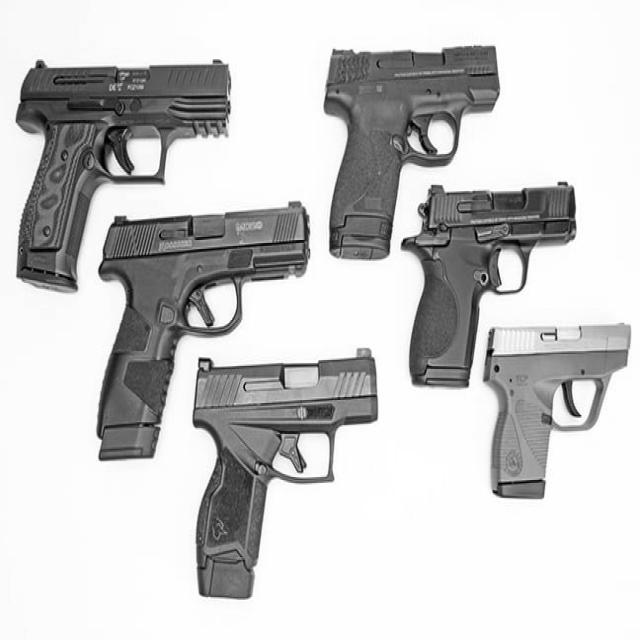Hand-Gun: (184, 360, 406, 623), (99, 213, 314, 478), (14, 50, 239, 284), (318, 38, 497, 257), (405, 172, 579, 396), (488, 320, 630, 498)
